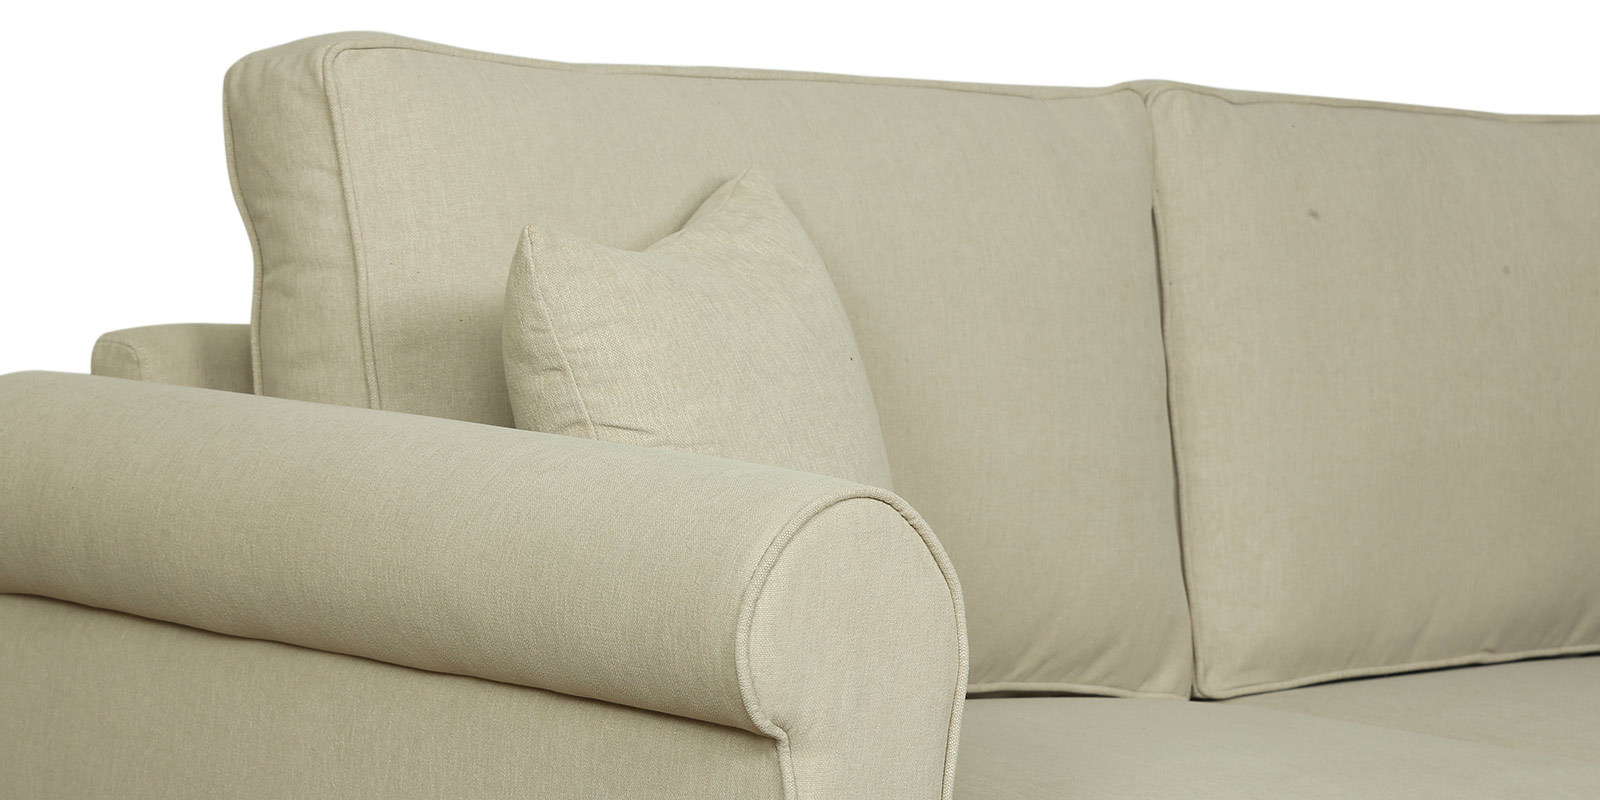Fuego Three Seater Sofa in Beige Colour by CasaCraft: (1, 6, 1589, 800)
